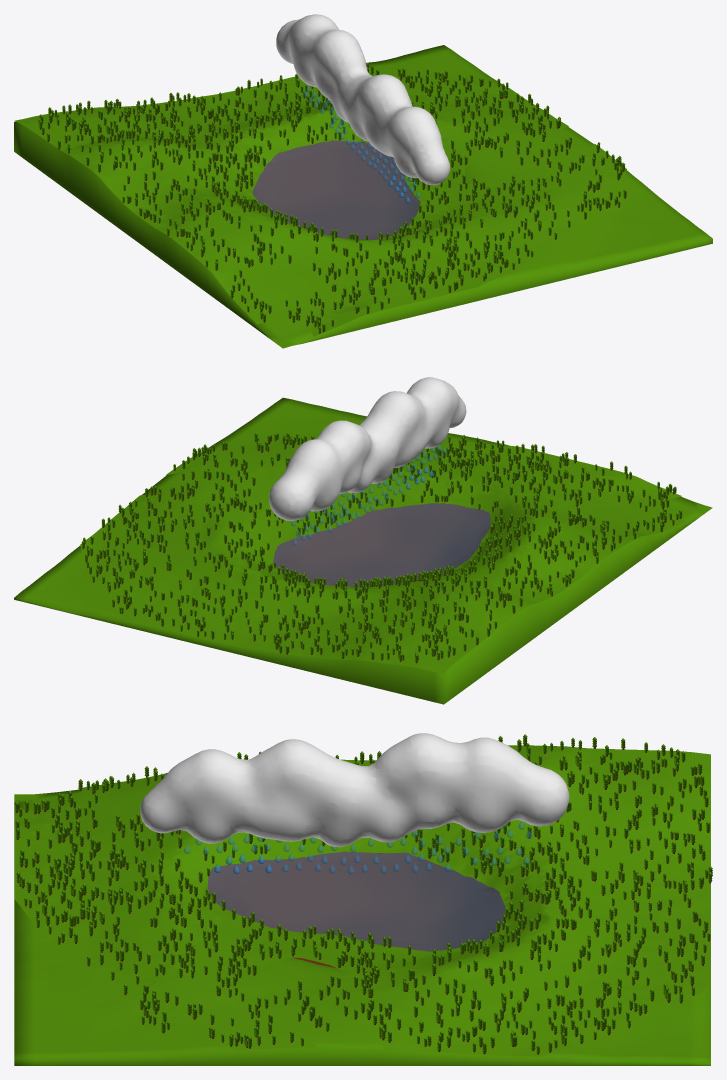
The model's file is page1.glb.
The picture shows the model from 3 angles, top to bottom: view 1: azimuth 30°, elevation 25°; view 2: azimuth 150°, elevation 25°; view 3: azimuth 270°, elevation 25°; orthographic projection. The views are drawn at different scales.
Visible parts, largest first — view 1: map_3.osm_forest, Terrain, cloud, map_3.osm_water, raindrops; view 2: map_3.osm_forest, Terrain, cloud, map_3.osm_water, raindrops; view 3: map_3.osm_forest, Terrain, cloud, map_3.osm_water, raindrops.
Part boxes in pixels (bbox=[...]): map_3.osm_forest: bbox=[14, 71, 634, 336]; Terrain: bbox=[14, 45, 712, 348]; cloud: bbox=[276, 14, 450, 185]; map_3.osm_water: bbox=[253, 141, 420, 239]; raindrops: bbox=[303, 85, 420, 203]; map_3.osm_forest: bbox=[80, 438, 686, 673]; Terrain: bbox=[14, 397, 712, 704]; cloud: bbox=[269, 377, 466, 521]; map_3.osm_water: bbox=[273, 503, 490, 586]; raindrops: bbox=[291, 445, 446, 545]; map_3.osm_forest: bbox=[14, 745, 710, 1056]; Terrain: bbox=[14, 785, 710, 1065]; cloud: bbox=[140, 733, 569, 847]; map_3.osm_water: bbox=[207, 852, 504, 951]; raindrops: bbox=[184, 821, 532, 874].
Bounding box in the file's own units: 16.79 × 6.33 × 18.2.
